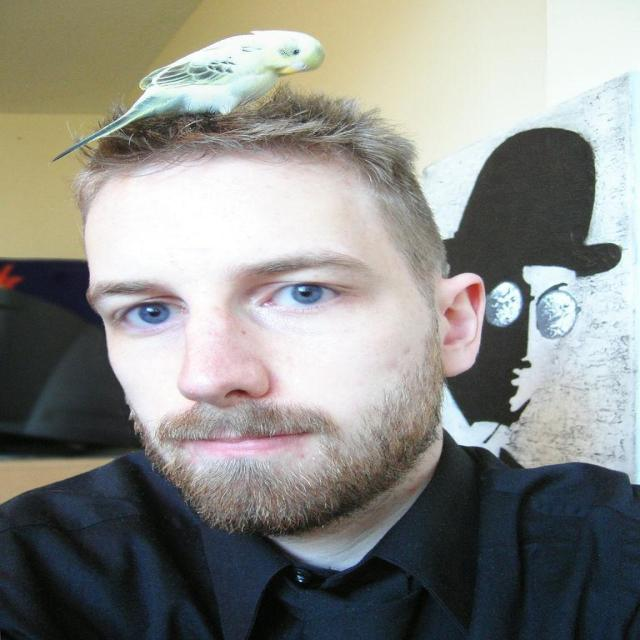no-glass: (104, 282, 350, 338)
